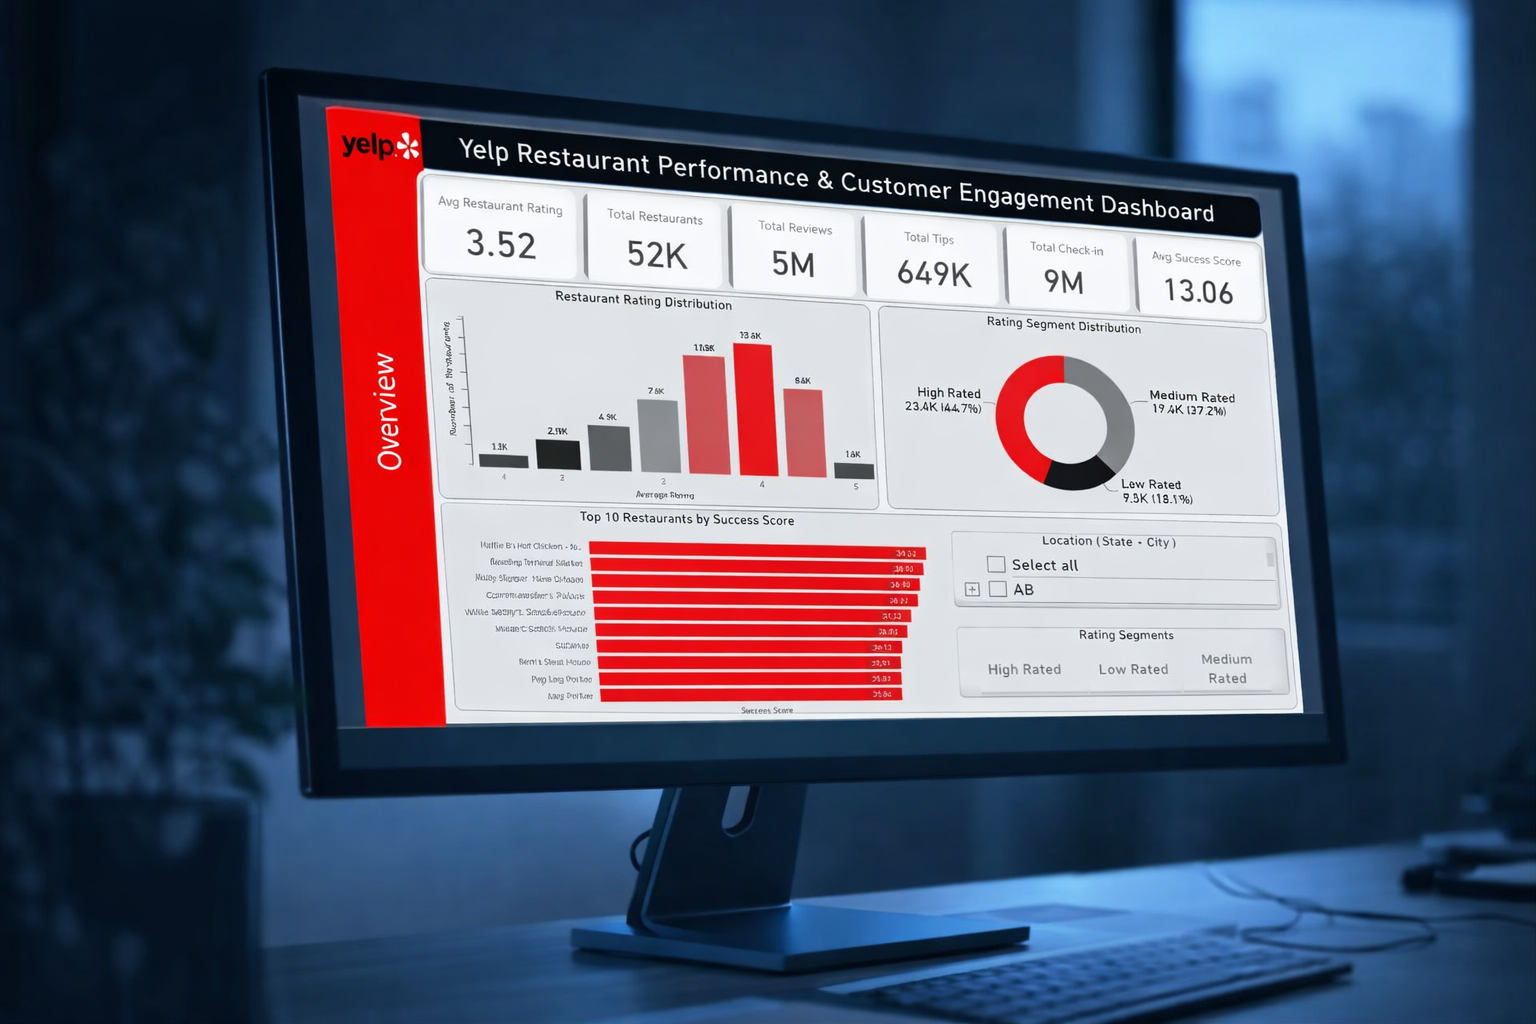

The page's visual inventory and layout, read from the dashboard file:
{"tool":"powerbi","page":{"name":"Overview","canvas":[1280,720],"ordinal":0},"visuals":[{"type":"shape","box":[155.1,4.1,1089.5,61.7],"z":0},{"type":"shape","box":[155.2,452.5,1090,267.5],"z":0,"group":"g1"},{"type":"group","id":"g1","title":"Group 1","box":[10,0,1234.3,720],"z":1000},{"type":"shape","box":[10,0,132.1,720.2],"z":1000,"group":"g1"},{"type":"image","box":[0,0,155.3,85.6],"z":2000},{"type":"cardVisual","fields":{"Data":["Table.Average_rating","Table.Total Restaurants","Table.Total Reviews","Table.Total Tips","Table.Total CheckIn","Table.Avg Sucess Score"]},"box":[155.2,71.2,1090,113.8],"z":2000,"group":"g1"},{"type":"shape","box":[155.2,191.2,590,256.2],"z":3000,"group":"g1"},{"type":"slicer","title":"Location ( State + City )","fields":{"Values":["yelp_summary_dataset.state","yelp_summary_dataset.city"]},"box":[830,472.5,403.8,101.2],"z":3000},{"type":"lineClusteredColumnComboChart","title":"Restaurant Rating Distribution","fields":{"Category":["yelp_summary_dataset.avg_rating"],"Y":["CountNonNull(yelp_summary_dataset.business_id)"]},"box":[155.2,191.2,590,256.2],"z":4000,"group":"g1"},{"type":"slicer","title":"Rating Segment","fields":{"Values":["yelp_summary_dataset.rating_segment"]},"box":[830,596.2,403.8,100],"z":4000},{"type":"shape","box":[756.5,191.2,488.8,255],"z":5000,"group":"g1"},{"type":"donutChart","title":"Rating Segment Distribution","fields":{"Category":["yelp_summary_dataset.rating_segment"],"Y":["Table.Total Restaurants"]},"box":[756.5,191.2,488.8,255],"z":6000,"group":"g1"},{"type":"barChart","title":"Top 10 Restaurants by Success Score","fields":{"Category":["yelp_summary_dataset.name"],"Y":["Table.Avg Sucess Score"]},"box":[153.1,452.5,658.8,267.5],"z":7000,"group":"g1"}]}

Visuals, with their boxes on the page's 1280x720 design canvas (x1, y1, x2, y2). These are canvas units, not pixel positions in the 1536x1024 screenshot, which may show the page scaled, cropped or inside an application window:
shape: 155,4,1245,66
shape: 155,452,1245,720
"Group 1" group: 10,0,1244,720
shape: 10,0,142,720
image: 0,0,155,86
cardVisual - Table.Average_rating x Table.Total Restaurants: 155,71,1245,185
shape: 155,191,745,447
"Location ( State + City )" slicer: 830,472,1234,574
"Restaurant Rating Distribution" lineClusteredColumnComboChart: 155,191,745,447
"Rating Segment" slicer: 830,596,1234,696
shape: 756,191,1245,446
"Rating Segment Distribution" donutChart: 756,191,1245,446
"Top 10 Restaurants by Success Score" barChart: 153,452,812,720
